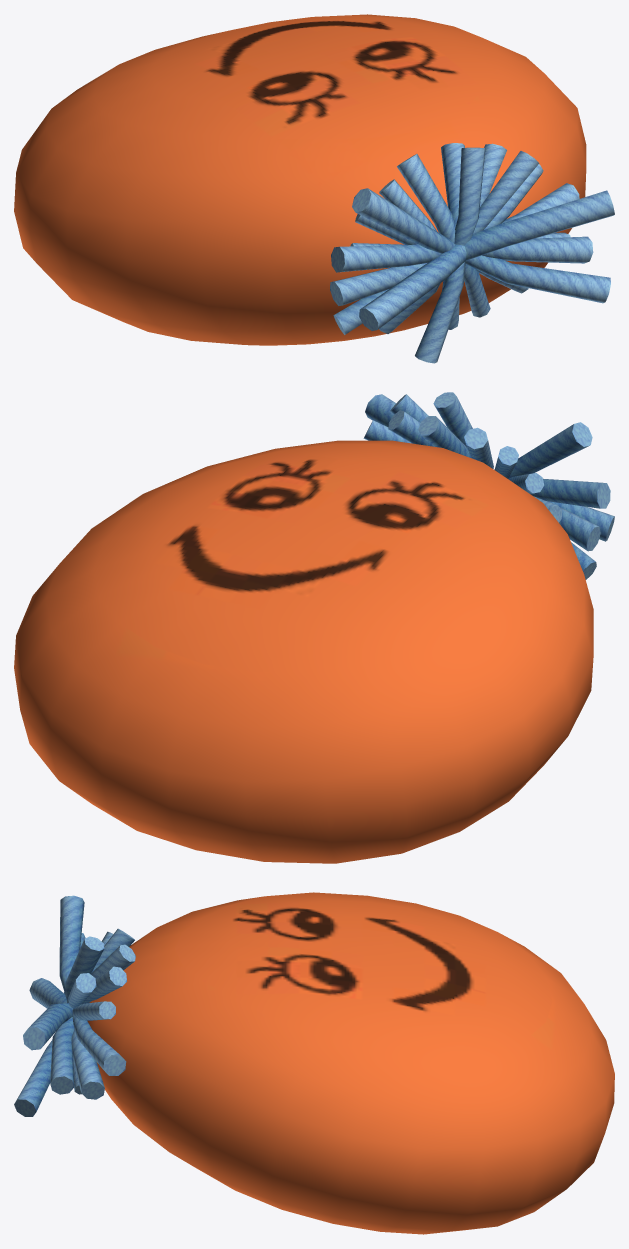
The model's file is GTSmileDoll.glb.
The picture shows the model from 3 angles, top to bottom: view 1: azimuth 30°, elevation 25°; view 2: azimuth 150°, elevation 25°; view 3: azimuth 270°, elevation 25°; orthographic projection. The views are drawn at different scales.
Parts seen in each view (by area): view 1: xiaoLianMianRen; view 2: xiaoLianMianRen; view 3: xiaoLianMianRen.
Part boxes in pixels (x1,y1,x2,y2): xiaoLianMianRen: (14,14,614,363); xiaoLianMianRen: (14,392,614,863); xiaoLianMianRen: (14,892,614,1234).
Bounding box in the file's own units: 1.09 × 0.5909 × 1.27.
Materials: 1 (1 with a texture image).
